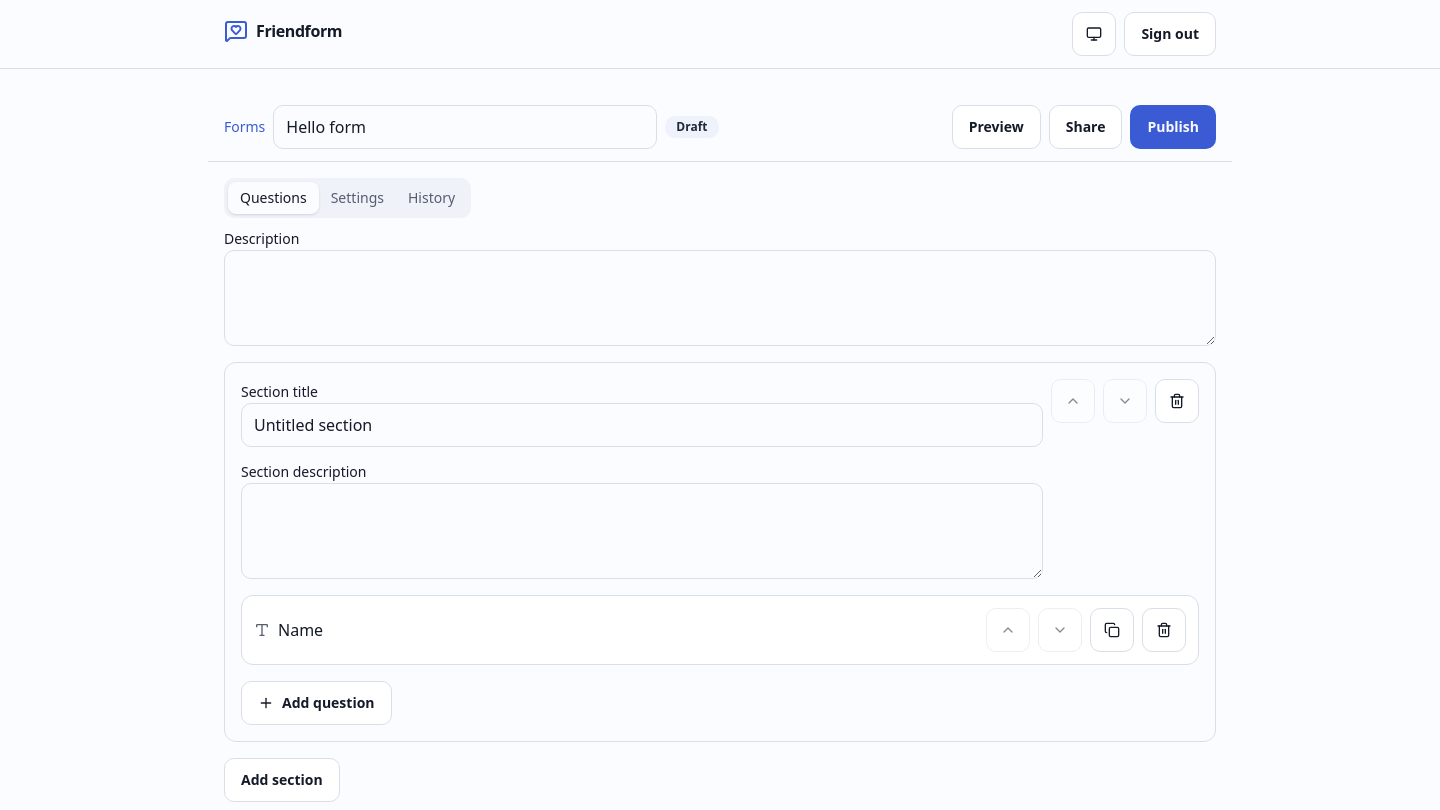
it: EditorPage › shows the problems dialog when publish returns 422
Click the button "Publish" at [1173, 127], box x1=1130 y1=105 x2=1216 y2=149
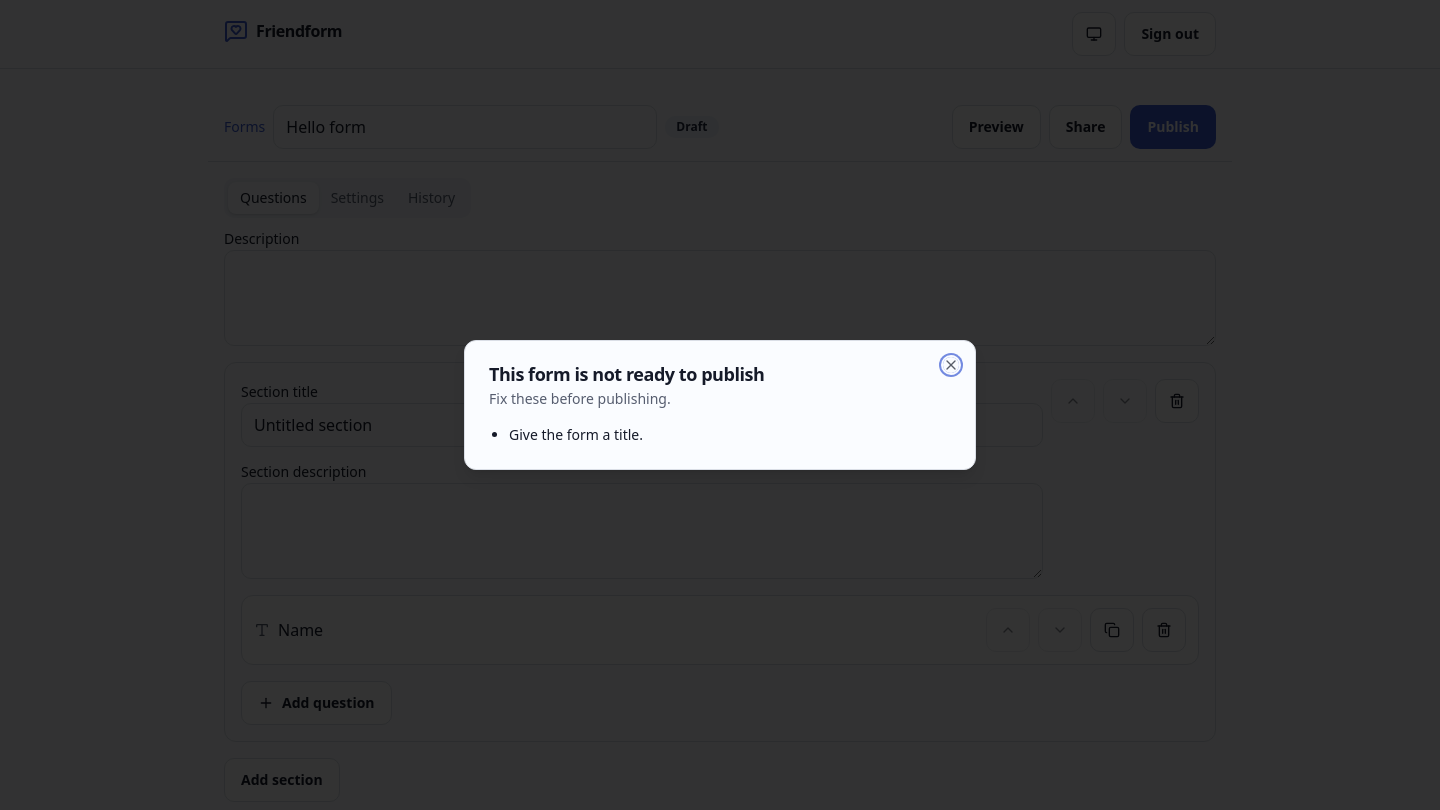
Expected: the list item "Give the form a title." is shown, x1=509 y1=425 x2=643 y2=444
